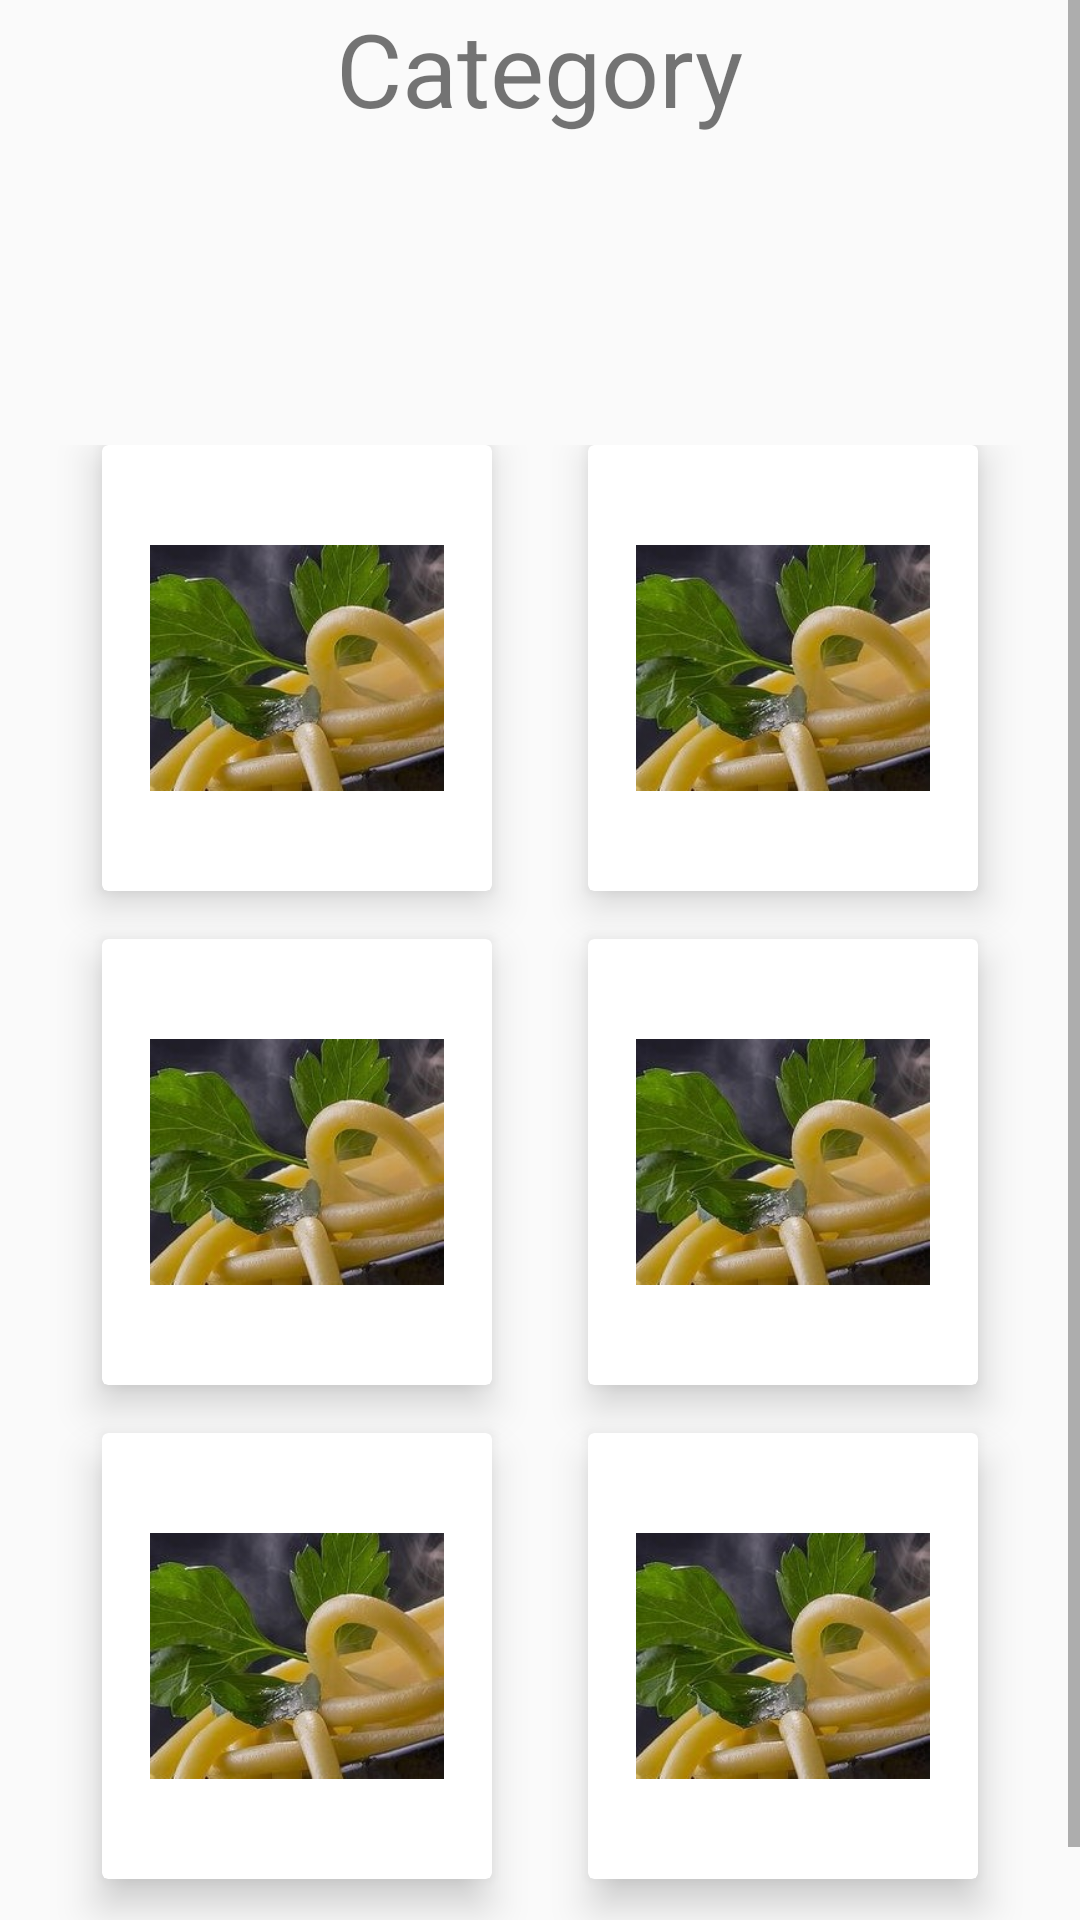

Icon click points for this 1080px×1920px phone screenshot, format (x=x, y=y):
food: (x=297, y=668), (x=783, y=668), (x=297, y=1162), (x=783, y=1162), (x=297, y=1656), (x=783, y=1656)
